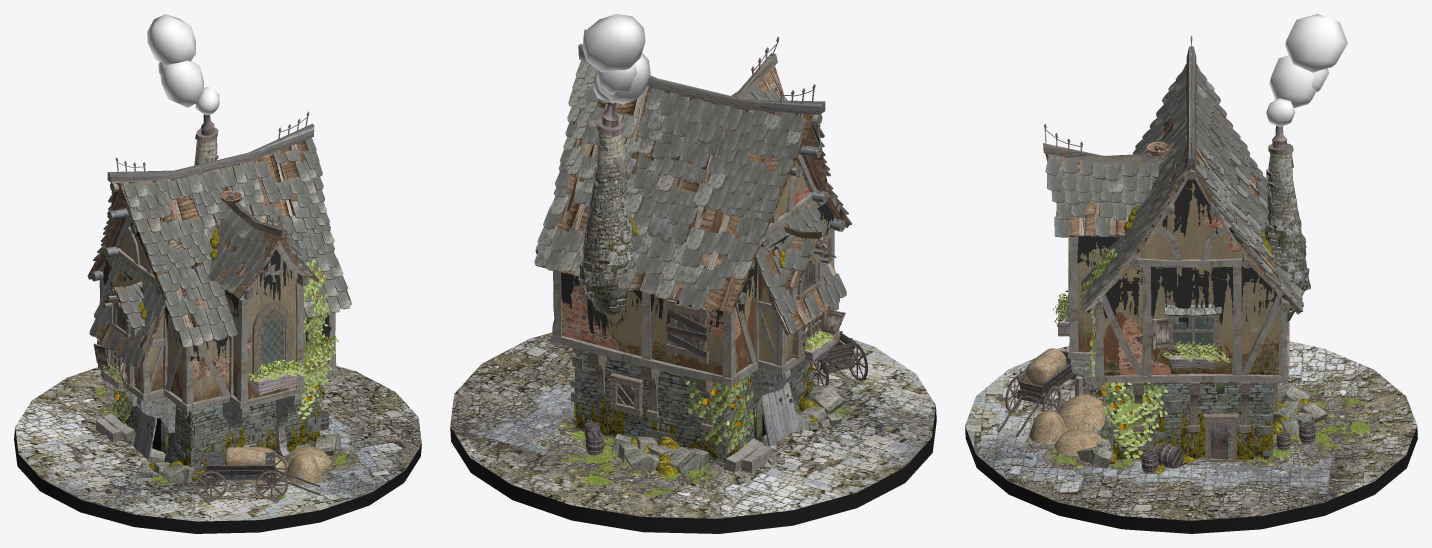
The model's file is texture_house.fbx.
3 renders of one model, left to right at view 1: azimuth 30°, elevation 25°; view 2: azimuth 150°, elevation 25°; view 3: azimuth 270°, elevation 25°, orthographic. The views are drawn at different scales.
Parts seen in each view (by area): view 1: pCylinder2, polySurface107, House_model1:polySurface6, House_model1:pCube1, pSphere9, polySurface364, House_model1:polySurface5, polySurface333, House_model1:polySurface7, _Telega:pCylinder3, polySurface110, House_model1:polySurface8 (+18 smaller); view 2: pCylinder2, polySurface107, House_model1:polySurface6, House_model1:polySurface5, House_model1:pCube1, House_model1:polySurface3, pSphere9, polySurface335, polySurface364, polySurface117, polySurface333, polySurface142 (+18 smaller); view 3: pCylinder2, polySurface107, House_model1:polySurface5, pPlane450, pSphere9, House_model1:pCube1, polySurface335, polySurface333, polySurface364, House_model1:polySurface3, House_model1:polySurface6, _Telega:pCylinder3 (+32 smaller).
Boxes of the visible parts, bbox=[...] form: pCylinder2: bbox=[14, 366, 421, 533]; polySurface107: bbox=[89, 137, 350, 367]; House_model1:polySurface6: bbox=[87, 139, 351, 346]; House_model1:pCube1: bbox=[119, 382, 317, 468]; pSphere9: bbox=[147, 14, 219, 115]; polySurface364: bbox=[90, 123, 314, 341]; House_model1:polySurface5: bbox=[109, 223, 328, 401]; polySurface333: bbox=[111, 259, 338, 427]; House_model1:polySurface7: bbox=[224, 255, 301, 399]; _Telega:pCylinder3: bbox=[194, 452, 320, 500]; polySurface110: bbox=[116, 380, 320, 468]; House_model1:polySurface8: bbox=[215, 232, 318, 300]; pCylinder2: bbox=[450, 332, 936, 533]; polySurface107: bbox=[534, 60, 851, 334]; House_model1:polySurface6: bbox=[538, 62, 849, 313]; House_model1:polySurface5: bbox=[561, 161, 828, 375]; House_model1:pCube1: bbox=[574, 351, 809, 462]; House_model1:polySurface3: bbox=[581, 131, 634, 315]; pSphere9: bbox=[582, 14, 650, 104]; polySurface335: bbox=[546, 415, 721, 495]; polySurface364: bbox=[535, 44, 845, 304]; polySurface117: bbox=[611, 412, 830, 473]; polySurface333: bbox=[684, 374, 755, 453]; polySurface142: bbox=[761, 382, 799, 446]; pCylinder2: bbox=[965, 341, 1417, 533]; polySurface107: bbox=[1045, 69, 1306, 311]; House_model1:polySurface5: bbox=[1103, 163, 1279, 375]; pPlane450: bbox=[1103, 179, 1276, 328]; pSphere9: bbox=[1266, 14, 1347, 127]; House_model1:pCube1: bbox=[1110, 382, 1272, 456]; polySurface335: bbox=[1008, 388, 1370, 469]; polySurface333: bbox=[1079, 248, 1167, 460]; polySurface364: bbox=[1043, 46, 1289, 311]; House_model1:polySurface3: bbox=[1264, 153, 1307, 321]; House_model1:polySurface6: bbox=[1084, 64, 1301, 314]; _Telega:pCylinder3: bbox=[997, 348, 1090, 436].
Bounding box in the file's own units: 19.92 × 20.71 × 19.89.
